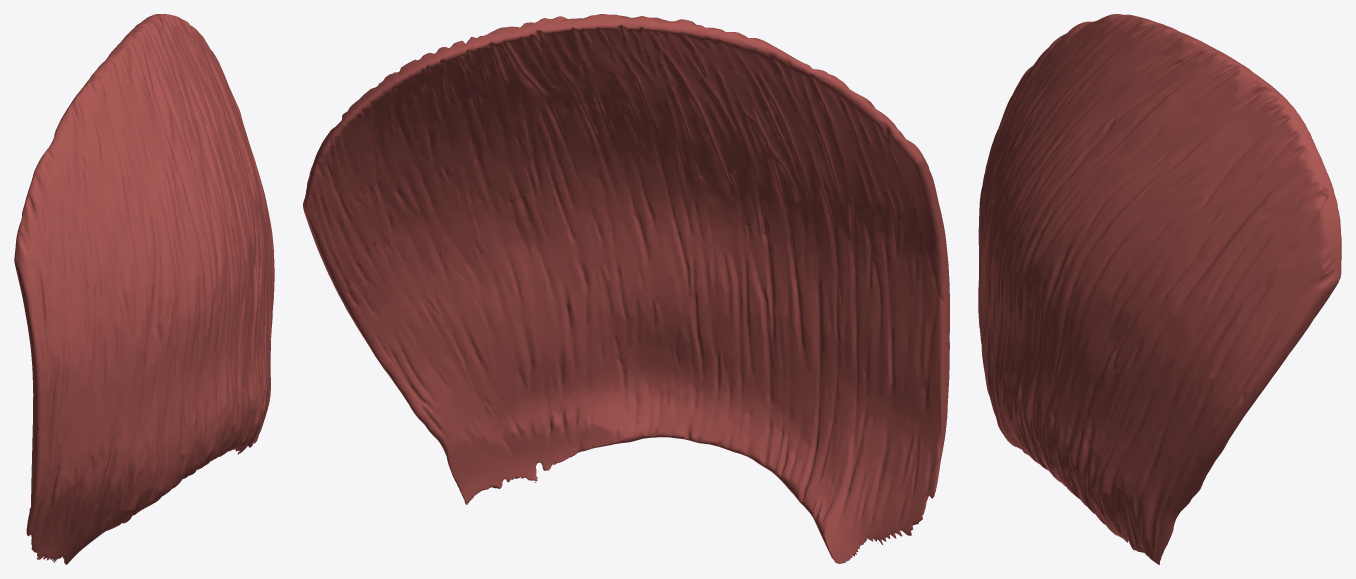
The model's file is FMA46760.glb.
3 renders of one model, left to right at view 1: azimuth 30°, elevation 25°; view 2: azimuth 150°, elevation 25°; view 3: azimuth 270°, elevation 25°, orthographic. The views are drawn at different scales.
Visible parts, largest first — view 1: FMA46760; view 2: FMA46760; view 3: FMA46760.
Part boxes in pixels (x1=…): FMA46760: x1=14, y1=14, x2=274, y2=564; FMA46760: x1=303, y1=14, x2=949, y2=563; FMA46760: x1=978, y1=14, x2=1341, y2=564.
Bounding box in the file's own units: 0.0566 × 0.0679 × 0.0454.
